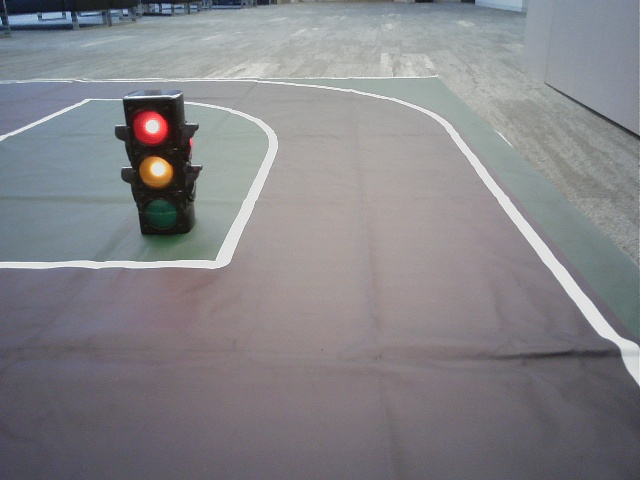red: (131, 100, 182, 232)
